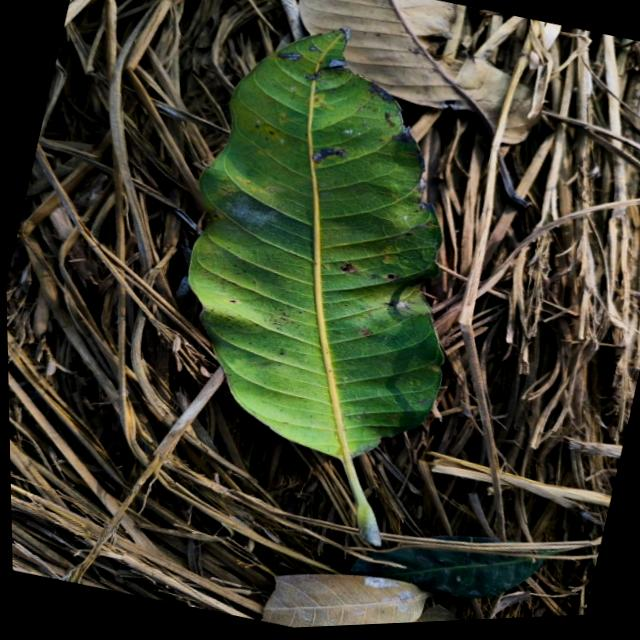Anthracnose: (308, 136, 353, 170), (331, 256, 368, 282)
Powdery Mildew: (212, 189, 286, 237)
